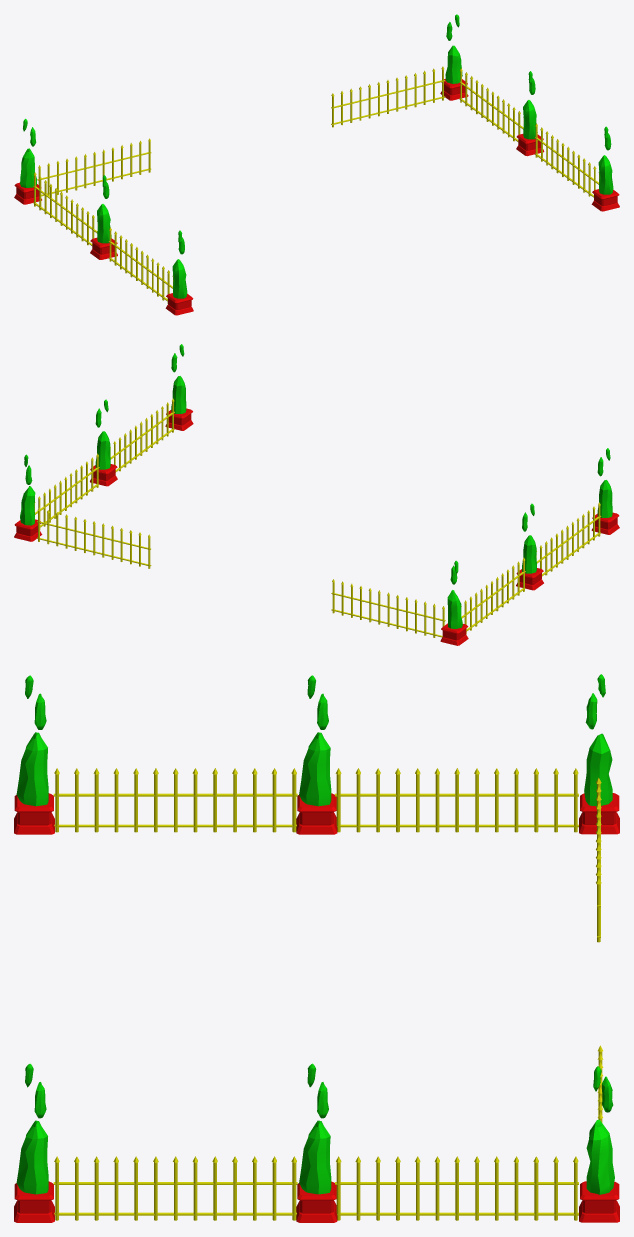
Rendered from BarrireresDemon.fbx.
3 renders of one model, top to bottom at view 1: azimuth 30°, elevation 25°; view 2: azimuth 150°, elevation 25°; view 3: azimuth 270°, elevation 25°, orthographic. The views are drawn at different scales.
Parts seen in each view (by area): view 1: Stele_G2 (×6); view 2: Stele_G2 (×6); view 3: Stele_G2 (×6), pCube2687 (×4), pCube2686 (×2).
Boxes of the visible parts, x1,y1,x2,y2 form: Stele_G2 (×6): (14,14,619,315); Stele_G2 (×6): (14,344,619,645); Stele_G2 (×6): (14,674,619,1222); pCube2687 (×4): (54,824,578,1215); pCube2686 (×2): (53,793,578,796).
Size of the model in its own units: 3294 by 588 by 2079.
